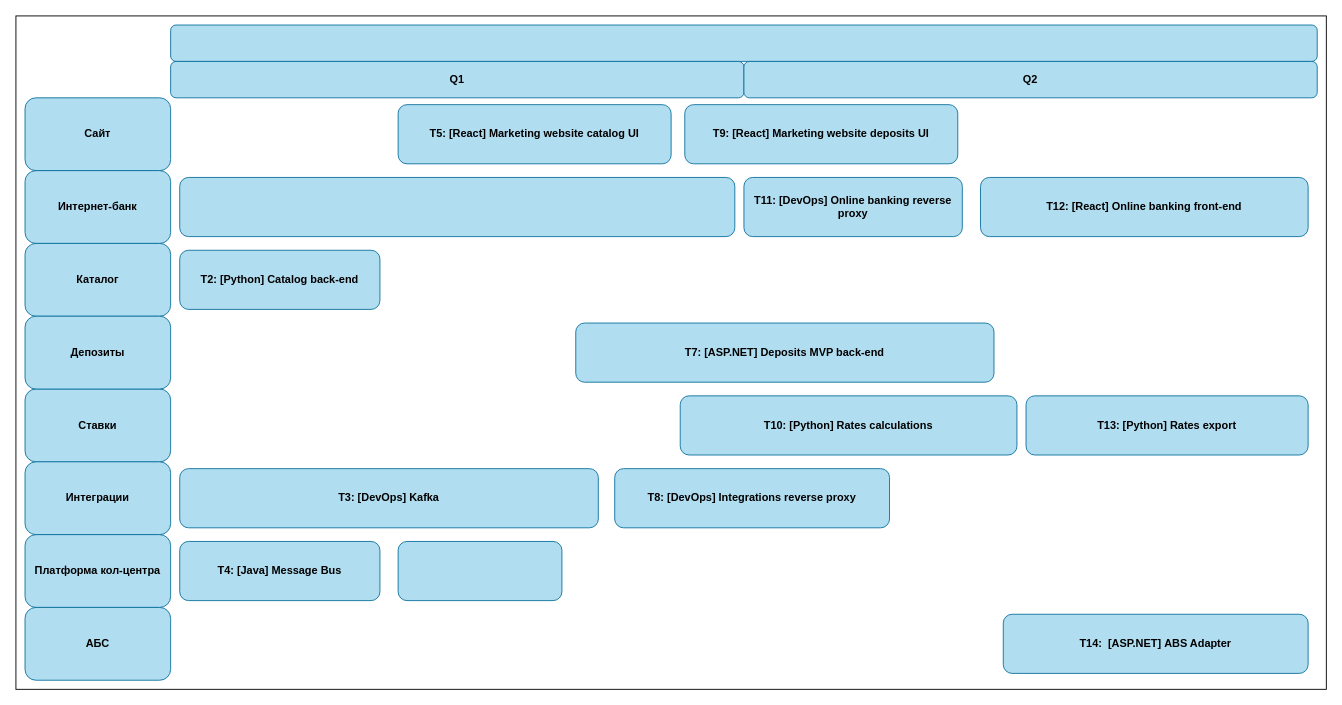
This 1342x705 diagram has some shape labels left out. Each missing label, with the centre of its shape:
MVP Roadmap — 6 месяцев: point 743,42
T1: [ASP.NET] Online banking MVP back-end: point 457,207
T6: [Python] Applications exchange: point 479,571
